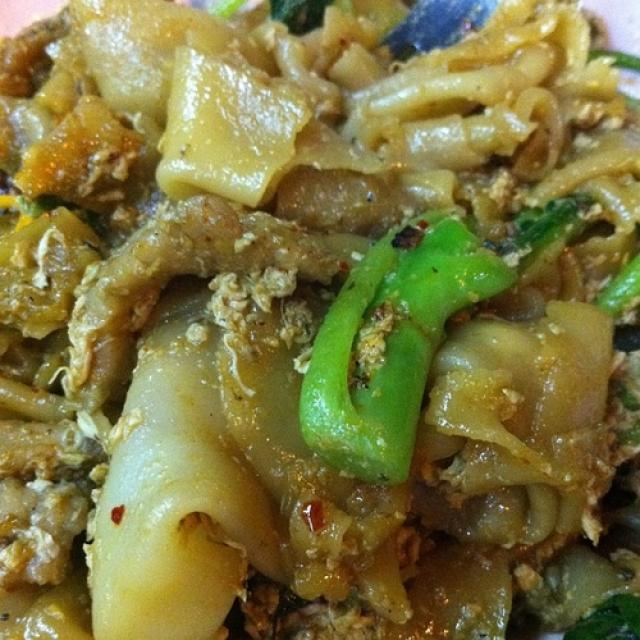面条主食: (5, 10, 623, 621)
